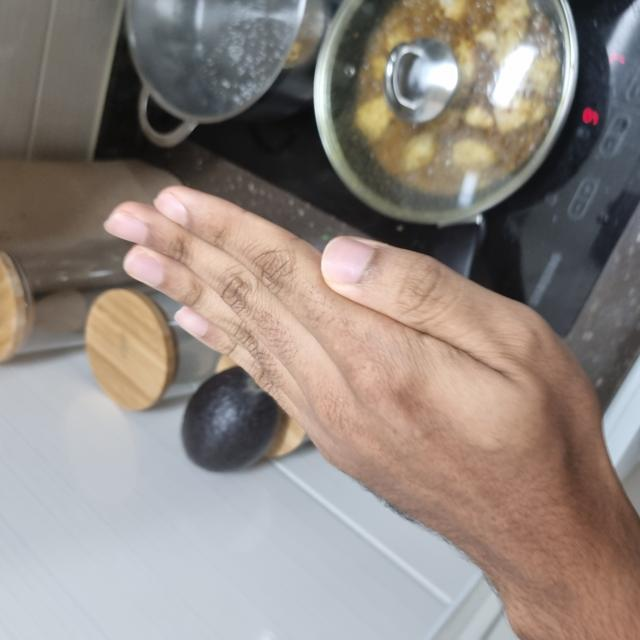Paper: (68, 111, 455, 615)
